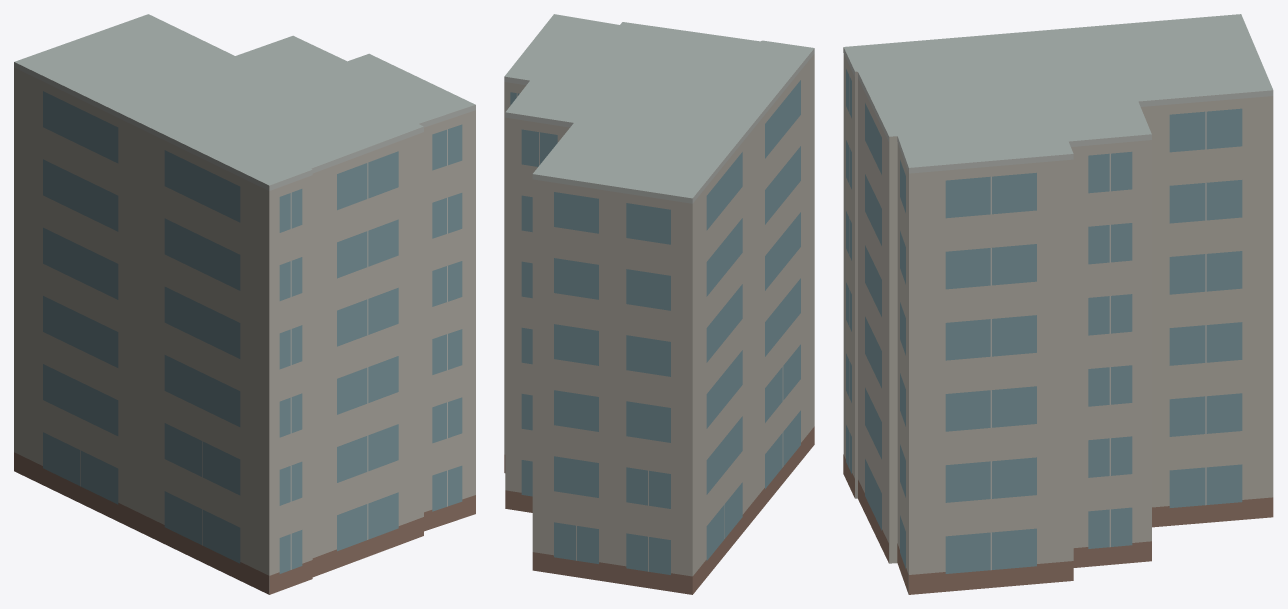
The model's file is survey-upis-32967587.glb.
The picture shows the model from 3 angles, left to right: view 1: azimuth 30°, elevation 25°; view 2: azimuth 150°, elevation 25°; view 3: azimuth 270°, elevation 25°; orthographic projection. The views are drawn at different scales.
Parts seen in each view (by area): view 1: survey-upis-32967587.tmp; view 2: survey-upis-32967587.tmp; view 3: survey-upis-32967587.tmp.
Boxes of the visible parts, x1,y1,x2,y2 form: survey-upis-32967587.tmp: [14, 14, 475, 594]; survey-upis-32967587.tmp: [504, 14, 814, 594]; survey-upis-32967587.tmp: [843, 14, 1273, 594].
Bounding box in the file's own units: 14.08 × 18.2 × 16.62.
